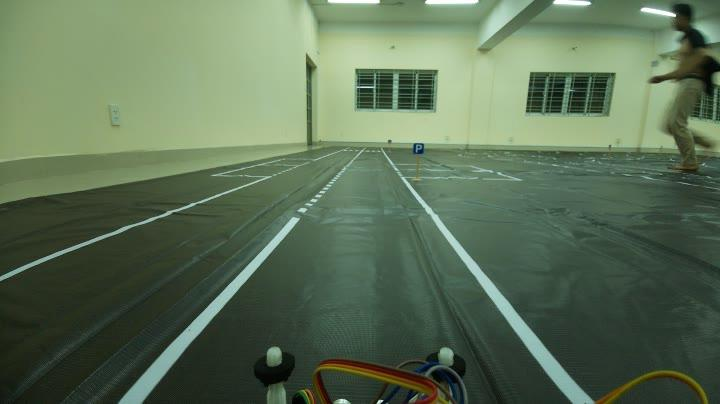parking: (406, 138, 432, 159)
